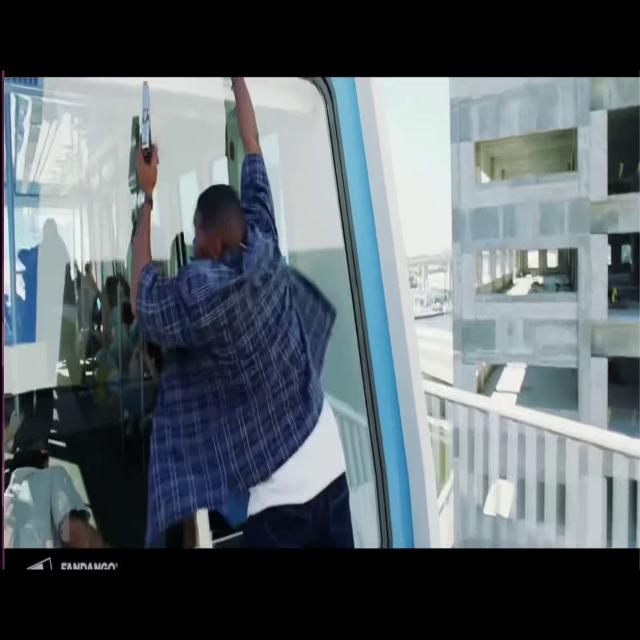weapons: (134, 76, 164, 191)
